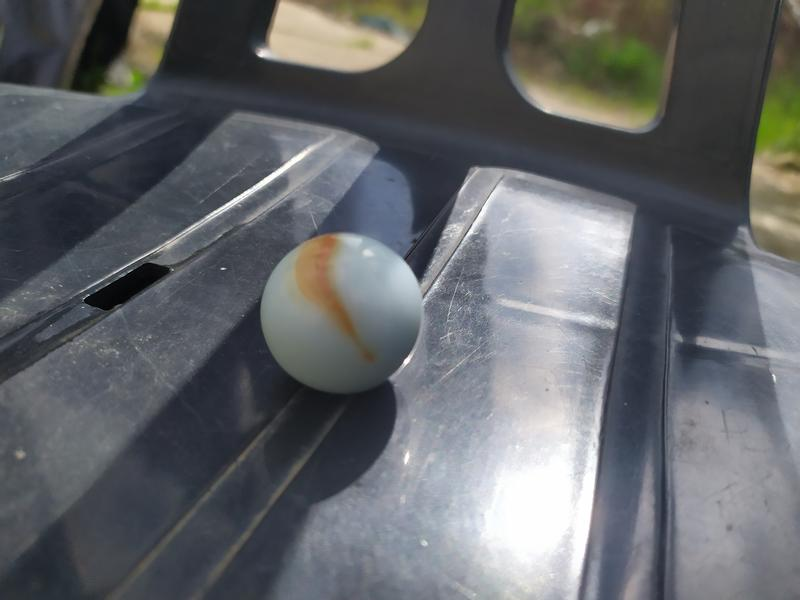Warning: (257, 228, 429, 398)
